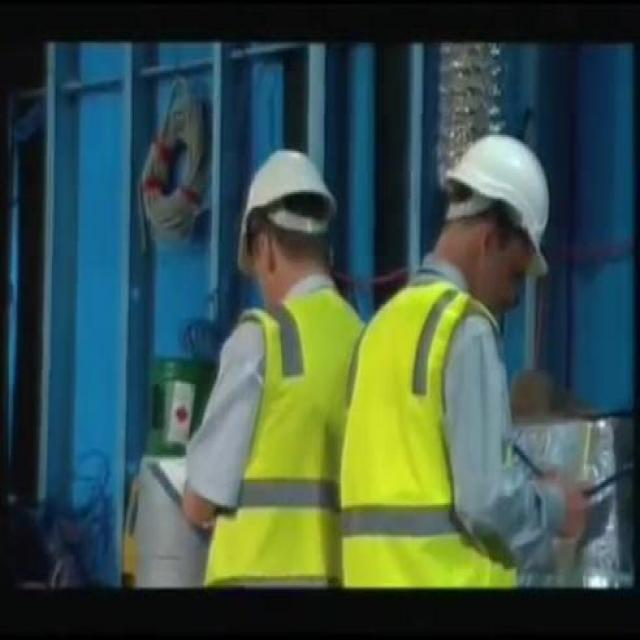Reflective-Jacket: (337, 270, 529, 594), (191, 292, 367, 594)
Safety-Helmet: (428, 123, 570, 279), (225, 133, 349, 258)
